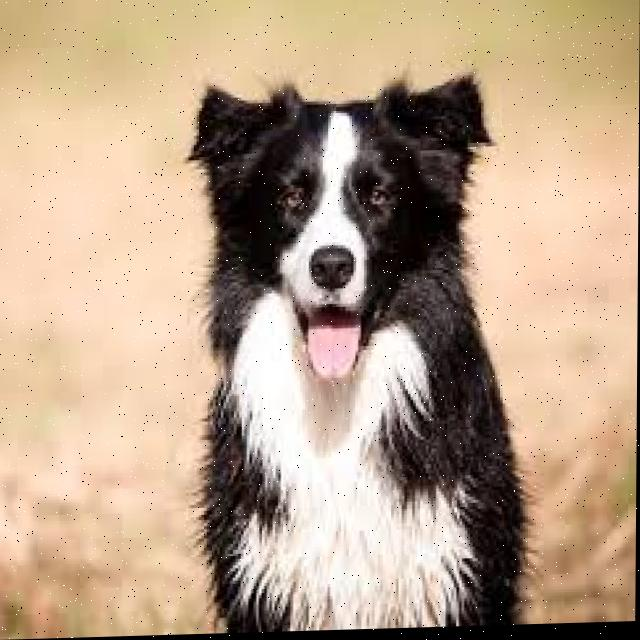BORDER_COLLIE: (162, 67, 548, 636)
